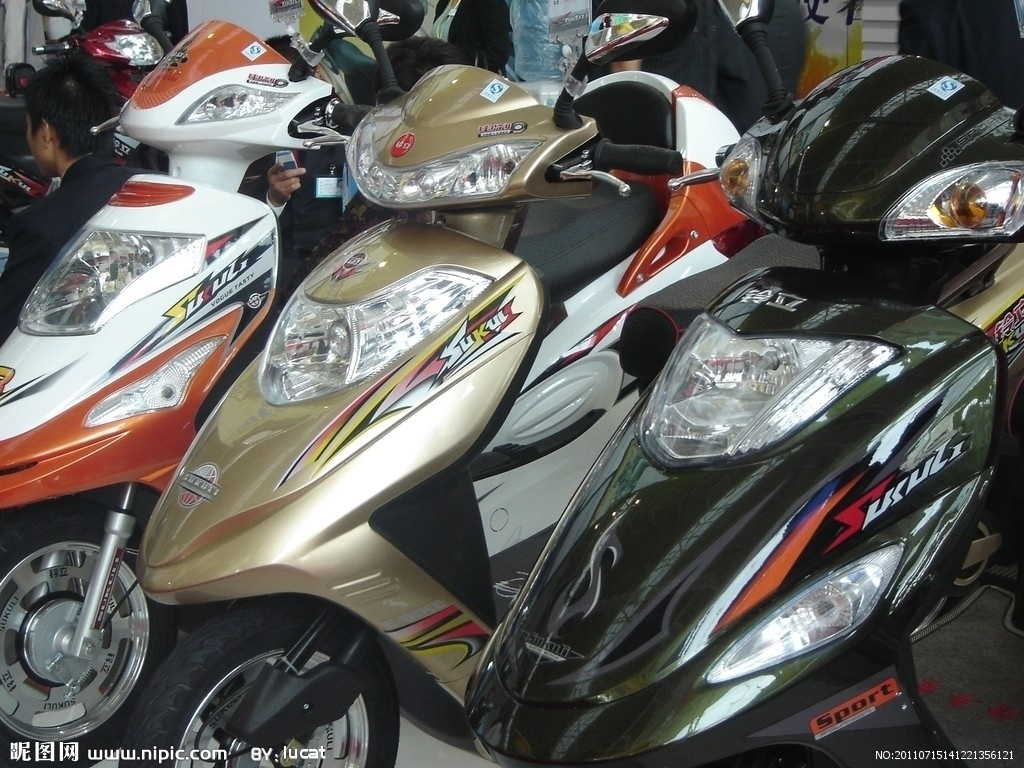non-vehicle: (466, 53, 1023, 762), (125, 62, 600, 750), (1, 24, 282, 748)
